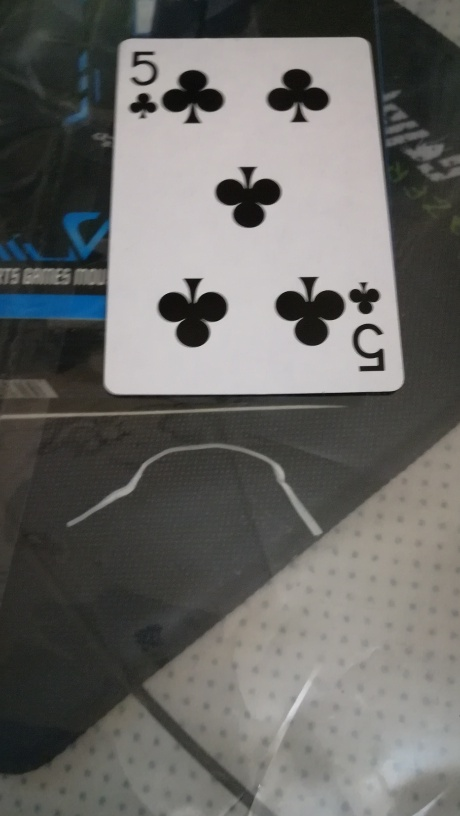mh 5: (98, 36, 403, 393)
